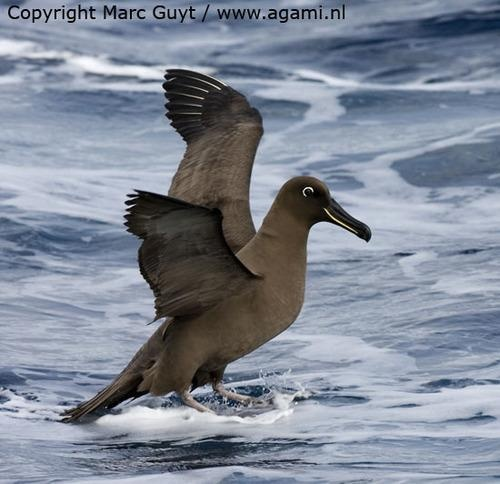bird: (60, 69, 372, 431)
